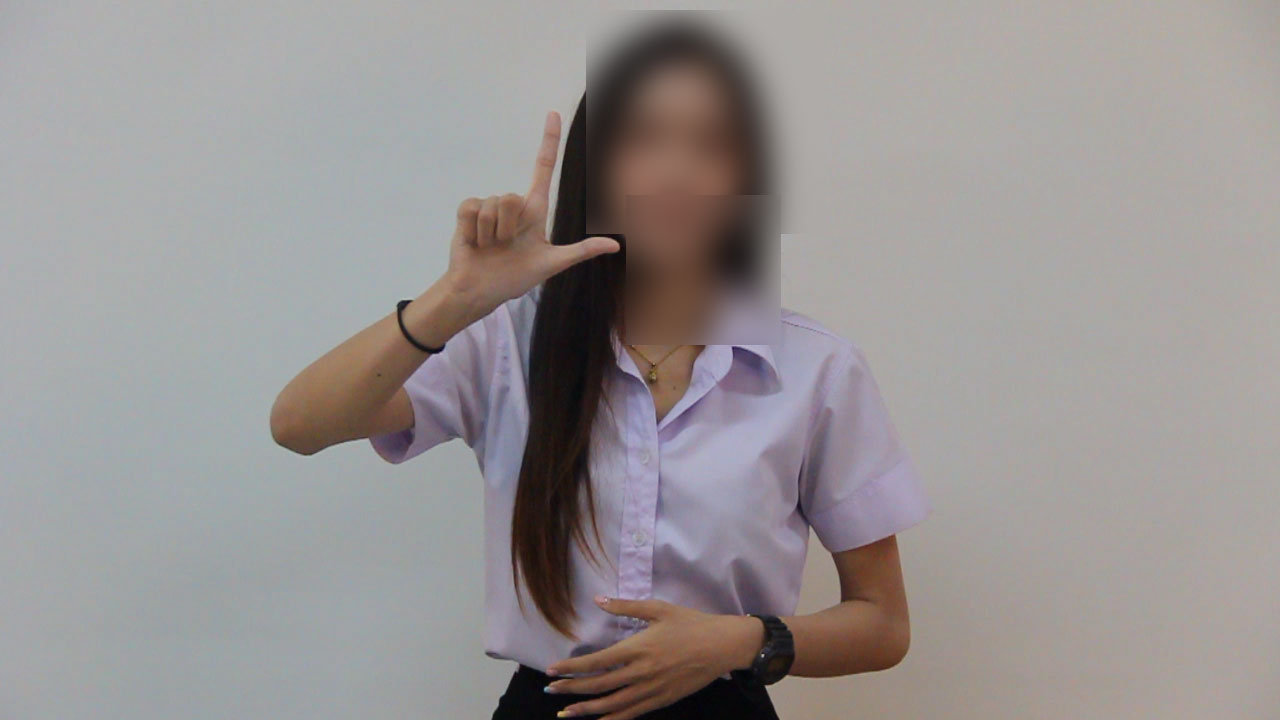lor: (439, 100, 628, 325)
